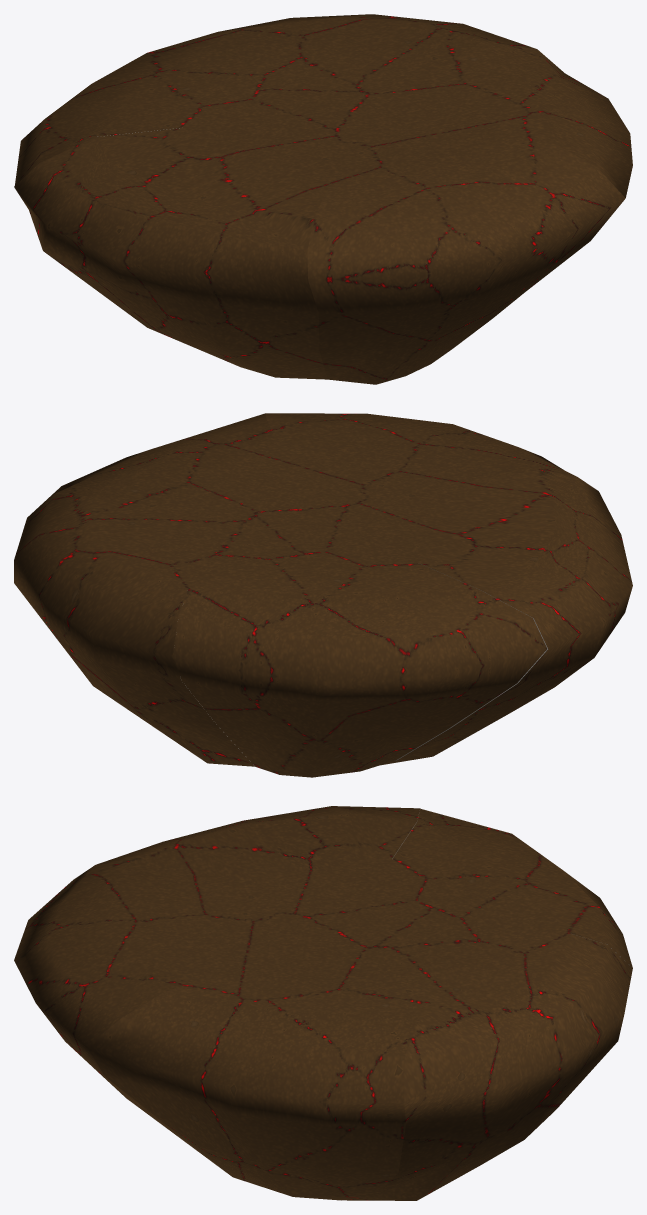
The model's file is island.fbx.
3 renders of one model, top to bottom at view 1: azimuth 30°, elevation 25°; view 2: azimuth 150°, elevation 25°; view 3: azimuth 270°, elevation 25°, orthographic. The views are drawn at different scales.
Parts seen in each view (by area): view 1: land5, land4, land1, land6, land3, land2; view 2: land6, land2, land5, land1, land4, land3; view 3: land3, land2, land4, land1, land6, land5.
Boxes of the visible parts, bbox=[...] form: land5: bbox=[14, 128, 334, 379]; land4: bbox=[307, 134, 625, 384]; land1: bbox=[182, 59, 492, 171]; land6: bbox=[15, 29, 271, 185]; land3: bbox=[422, 41, 632, 197]; land2: bbox=[220, 14, 535, 79]; land6: bbox=[172, 562, 547, 777]; land2: bbox=[14, 494, 254, 766]; land5: bbox=[381, 469, 632, 765]; land1: bbox=[196, 447, 438, 567]; land4: bbox=[265, 413, 577, 485]; land3: bbox=[28, 413, 277, 516]; land3: bbox=[87, 974, 419, 1200]; land2: bbox=[343, 927, 632, 1200]; land4: bbox=[14, 861, 229, 1174]; land1: bbox=[194, 859, 480, 979]; land6: bbox=[341, 808, 632, 1200]; land5: bbox=[97, 806, 420, 894].
Size of the model in its own units: 3014 by 1377 by 2812.
